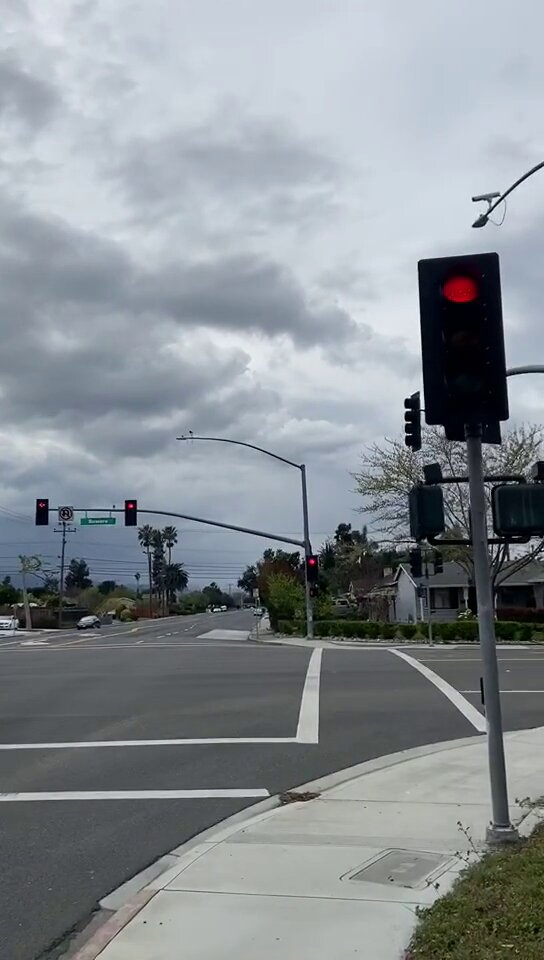red_light: (420, 262, 504, 423), (305, 553, 319, 582), (35, 497, 48, 526), (126, 500, 136, 527)
